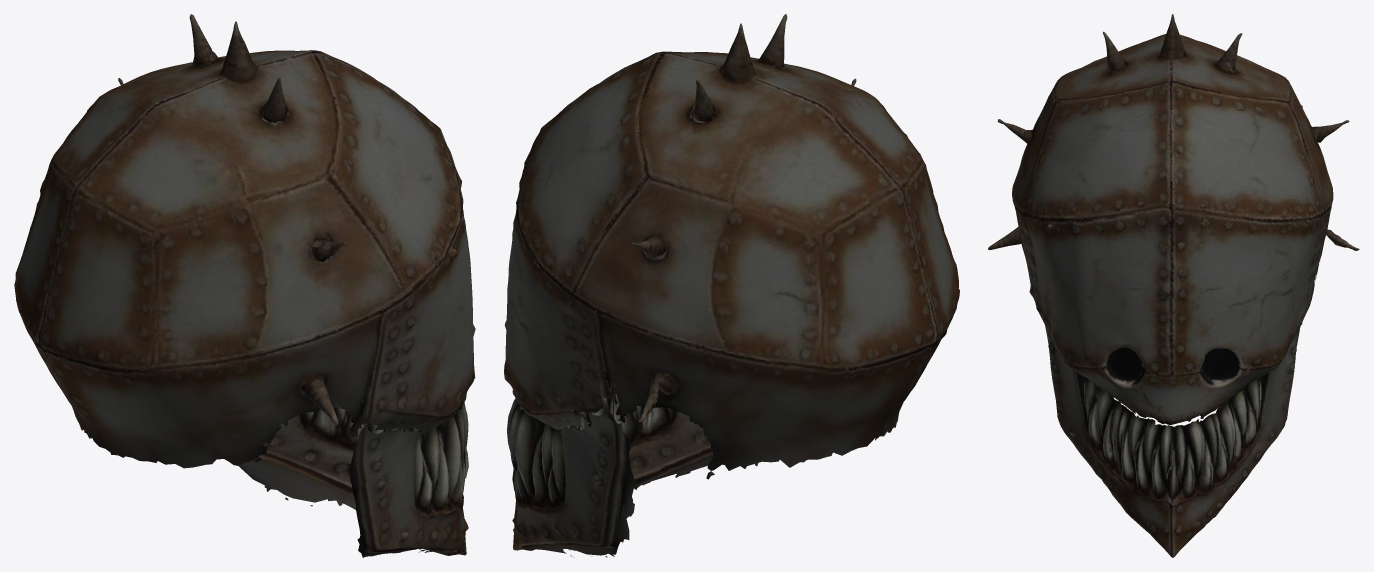
File: Oblivion.fbx
3 renders of one model, left to right at view 1: azimuth 30°, elevation 25°; view 2: azimuth 150°, elevation 25°; view 3: azimuth 270°, elevation 25°, orthographic. The views are drawn at different scales.
Visible parts, largest first — view 1: tripo_part_5, tripo_part_7, tripo_part_1, tripo_part_4, tripo_part_10; view 2: tripo_part_5, tripo_part_7, tripo_part_4, tripo_part_13, tripo_part_10; view 3: tripo_part_5, tripo_part_7, tripo_part_4.
Boxes of the visible parts, <box> form: tripo_part_5: <box>14,21,475,468</box>; tripo_part_7: <box>239,402,468,557</box>; tripo_part_1: <box>300,375,338,425</box>; tripo_part_4: <box>262,77,288,122</box>; tripo_part_10: <box>189,14,211,66</box>; tripo_part_5: <box>504,23,959,479</box>; tripo_part_7: <box>507,371,724,557</box>; tripo_part_4: <box>758,14,787,67</box>; tripo_part_13: <box>638,371,672,422</box>; tripo_part_10: <box>691,80,715,122</box>; tripo_part_5: <box>1012,14,1333,424</box>; tripo_part_7: <box>1045,260,1320,557</box>; tripo_part_4: <box>1103,31,1128,71</box>.
Bounding box in the file's own units: 0.5273 × 0.6936 × 0.5113.
Materials: 8 (8 with a texture image).
